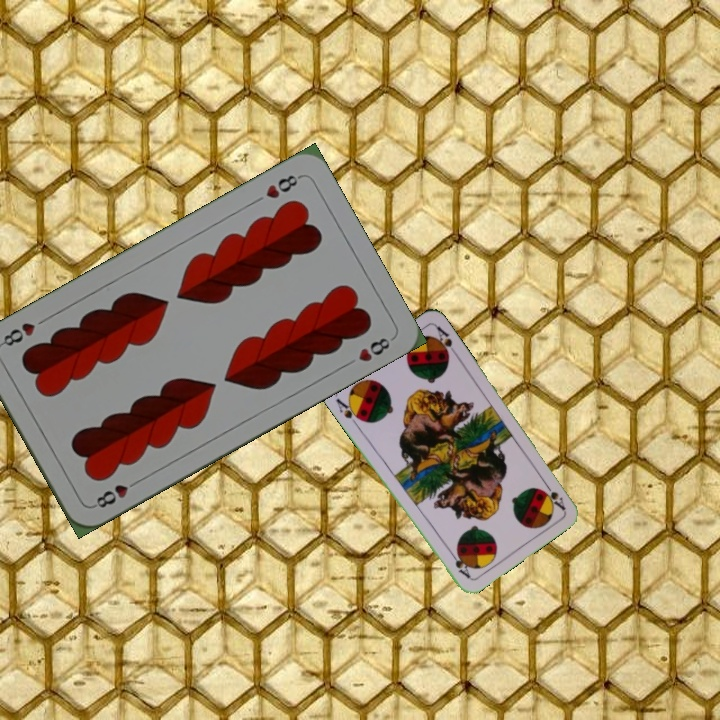H8: (89, 475, 143, 511), (261, 170, 304, 201)
SA: (332, 394, 365, 428), (539, 477, 568, 513)
